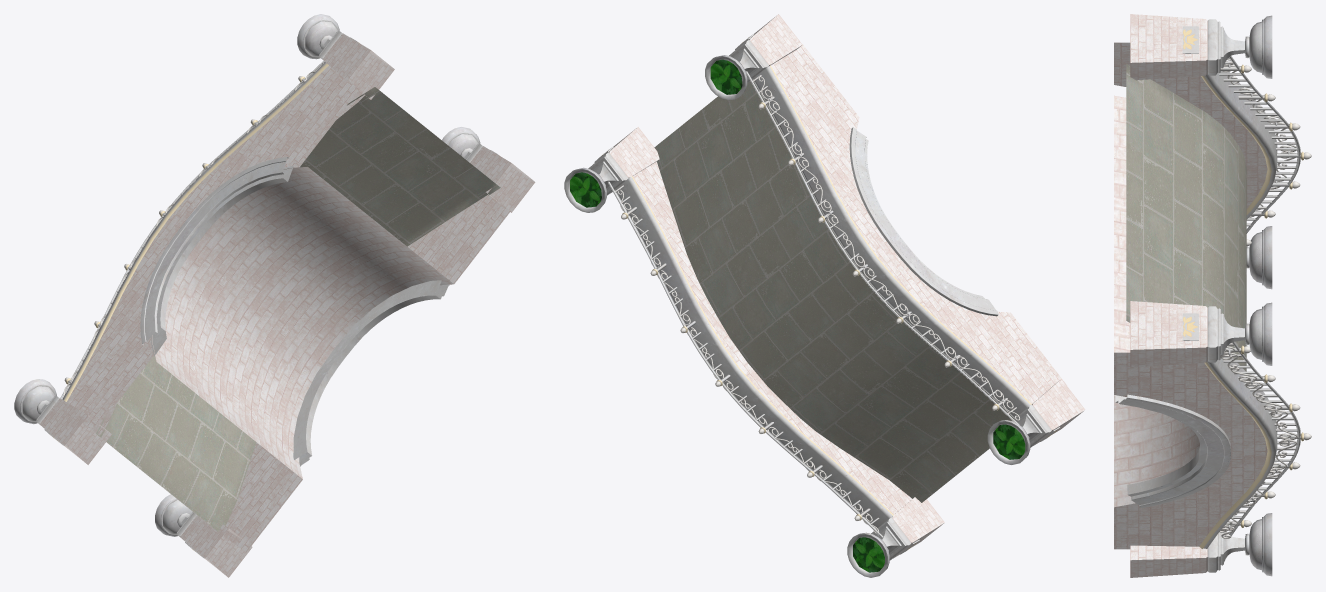
File: Bridge.obj
The picture shows the model from 3 angles, left to right: view 1: azimuth 30°, elevation 25°; view 2: azimuth 150°, elevation 25°; view 3: azimuth 270°, elevation 25°; orthographic projection. The views are drawn at different scales.
Parts seen in each view (by area): view 1: Bridge__WallTile00, Bridge__TileGround00, Bridge__MarbleWhite00, Bridge__GoldDeco01; view 2: Bridge__TileGround00, Bridge__MarbleWhite00, Bridge__WallTile00, Bridge__ShrubberyPlants00, Bridge__Stone00_AT, Bridge__GoldDeco01; view 3: Bridge__WallTile00, Bridge__TileGround00, Bridge__MarbleWhite00, Bridge__Stone00_AT, Bridge__GoldDeco01, Bridge__GoldDecoSeal00.
Boxes of the visible parts, <box> form: Bridge__WallTile00: <box>39,33,535,577</box>; Bridge__TileGround00: <box>96,87,500,531</box>; Bridge__MarbleWhite00: <box>14,14,498,557</box>; Bridge__GoldDeco01: <box>64,63,328,401</box>; Bridge__TileGround00: <box>654,79,1013,502</box>; Bridge__MarbleWhite00: <box>564,34,1060,577</box>; Bridge__WallTile00: <box>593,14,1085,558</box>; Bridge__ShrubberyPlants00: <box>570,59,1025,572</box>; Bridge__Stone00_AT: <box>617,76,1020,533</box>; Bridge__GoldDeco01: <box>622,65,1031,520</box>; Bridge__WallTile00: <box>1114,14,1267,577</box>; Bridge__TileGround00: <box>1126,64,1246,371</box>; Bridge__MarbleWhite00: <box>1115,15,1300,576</box>; Bridge__Stone00_AT: <box>1219,58,1311,538</box>; Bridge__GoldDeco01: <box>1199,64,1303,548</box>; Bridge__GoldDecoSeal00: <box>1183,29,1197,336</box>.
Bounding box in the file's own units: 2156 × 2156 × 589.
8 materials, 7 textured.
